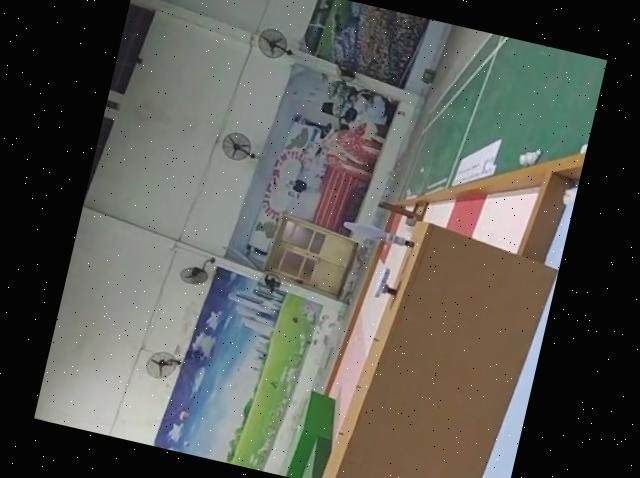Hand: (371, 261, 403, 302)
Sph: (341, 217, 421, 250)
